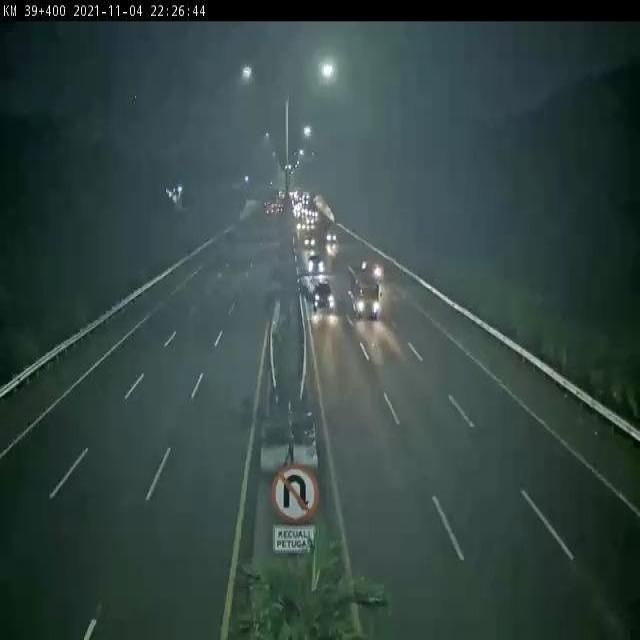Bus: (342, 264, 389, 330)
Car: (310, 284, 336, 316), (306, 253, 330, 281), (326, 227, 346, 249), (300, 233, 318, 251)
